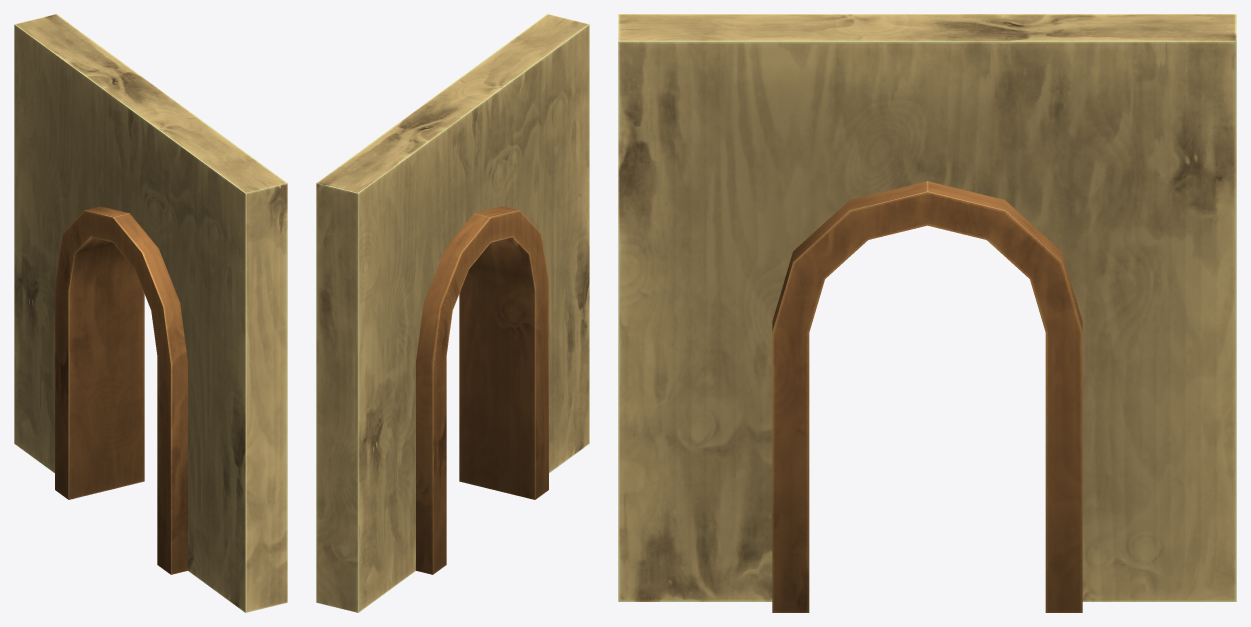
The model's file is WoodenWallDoor.fbx.
The picture shows the model from 3 angles, left to right: view 1: azimuth 30°, elevation 25°; view 2: azimuth 150°, elevation 25°; view 3: azimuth 270°, elevation 25°; orthographic projection. The views are drawn at different scales.
Visible parts, largest first — view 1: Cube.135; view 2: Cube.135; view 3: Cube.135.
Part boxes in pixels (x1,y1,x2,y2): Cube.135: [14, 14, 287, 612]; Cube.135: [316, 14, 589, 612]; Cube.135: [618, 14, 1236, 612].
Size of the model in its own units: 37.96 by 200 by 200.
Materials: 1 (1 with a texture image).
